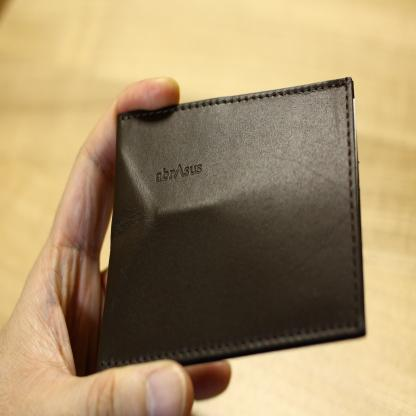monedero: (93, 76, 367, 370)
